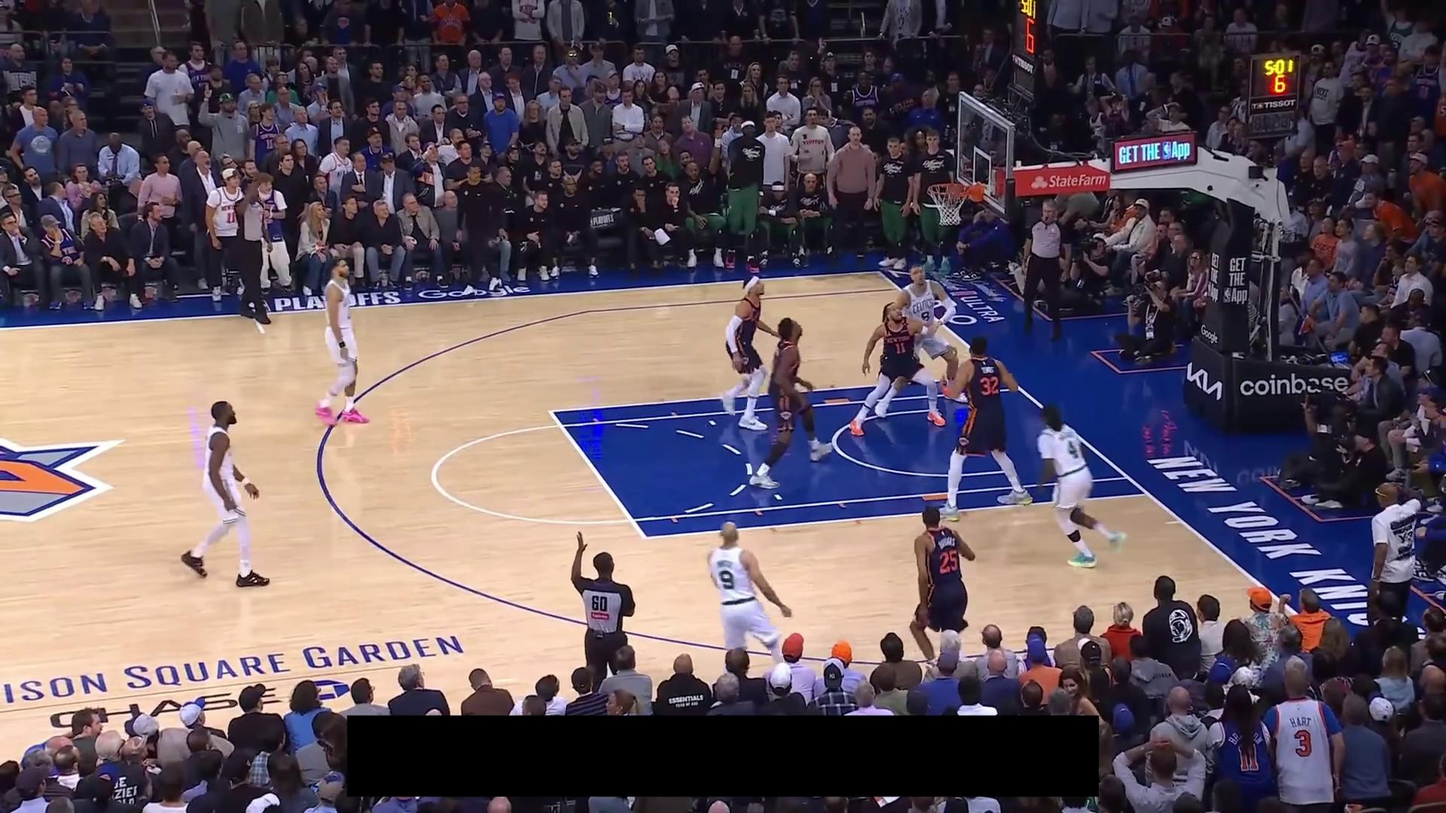ball: (946, 182, 965, 199)
ball-in-basket: (926, 182, 970, 226)
number: (938, 549, 959, 575), (980, 376, 999, 396), (719, 569, 734, 590), (1066, 440, 1081, 459), (894, 341, 908, 355), (921, 310, 931, 323)
player: (935, 333, 1034, 523), (180, 399, 273, 589), (1034, 399, 1129, 570), (746, 315, 834, 489), (847, 299, 950, 439), (705, 518, 793, 676), (874, 263, 962, 418), (908, 503, 979, 666), (717, 273, 781, 432), (313, 255, 371, 427)
referee: (570, 529, 636, 696), (1020, 198, 1072, 342), (235, 169, 275, 325)
rim: (926, 182, 970, 197)
